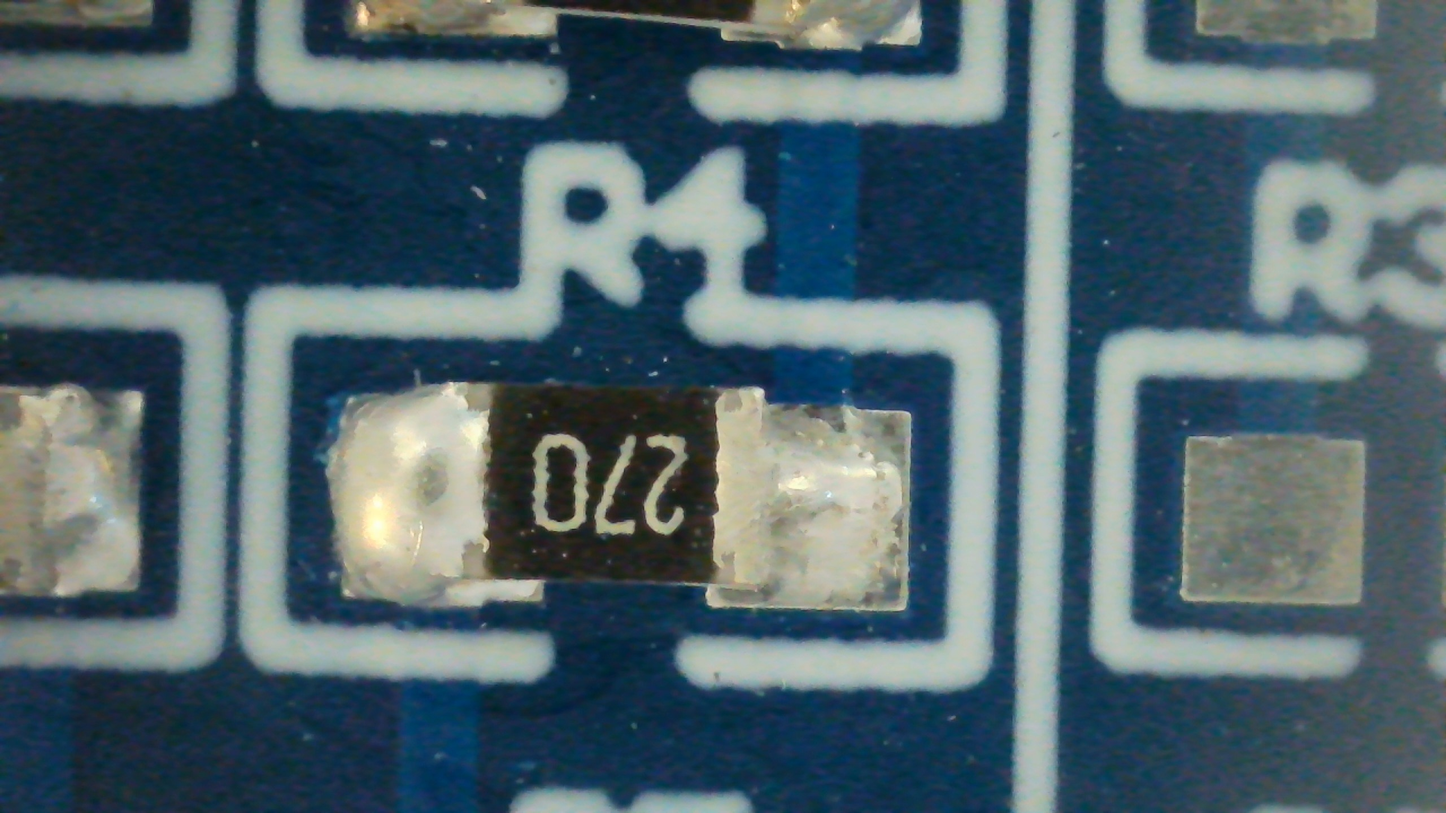NG: (326, 381, 909, 610)
